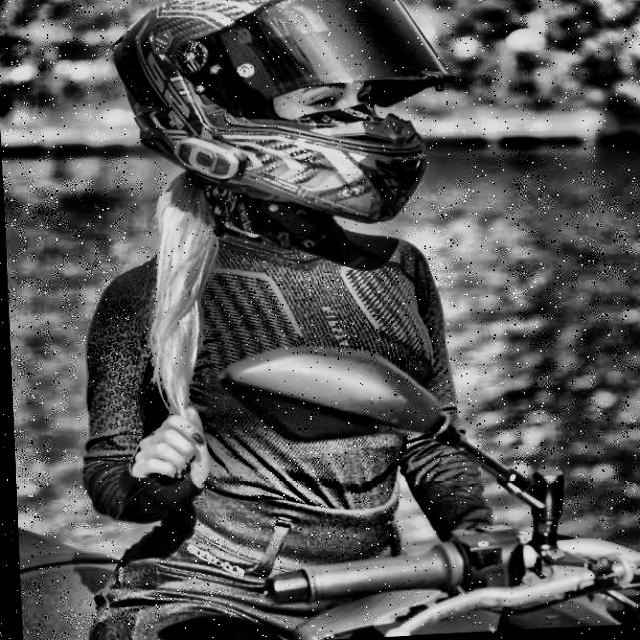Helmet: (102, 0, 464, 244)
